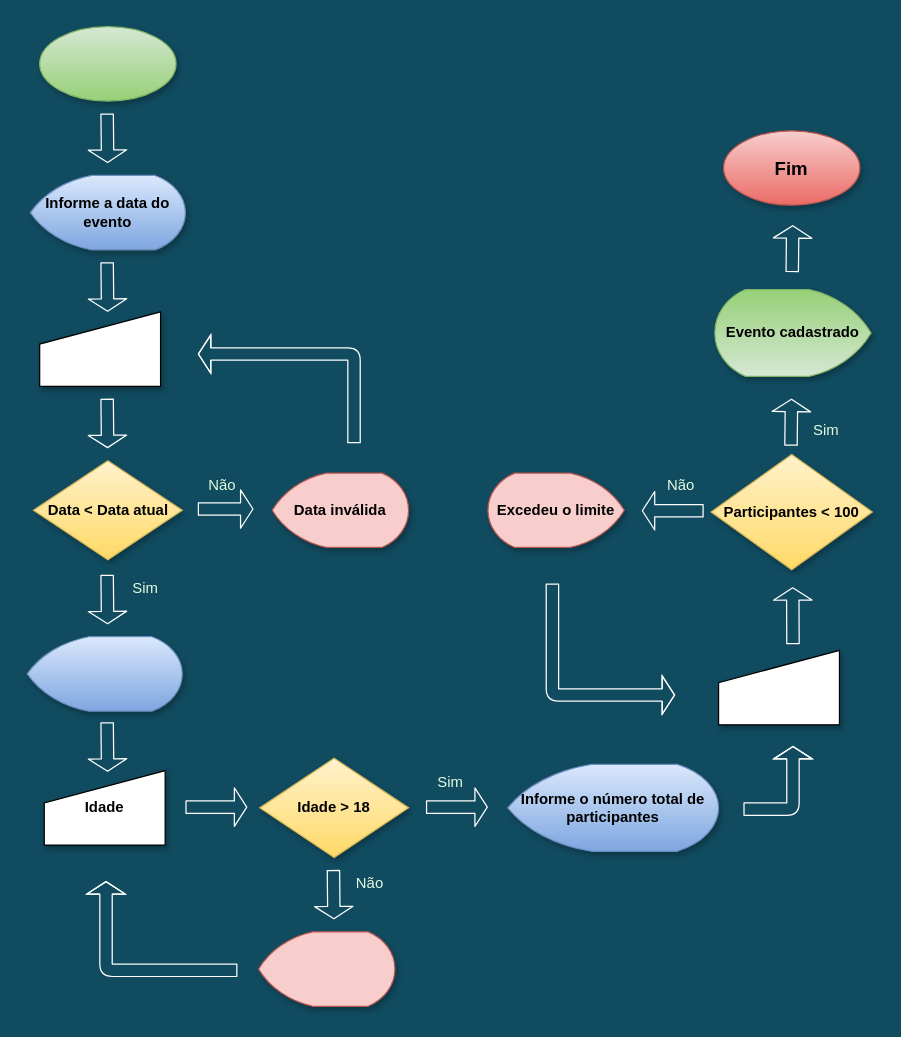
Some shapes in this 901 by 1037 pixel diagram are drawn without their labels. Here are the shapes that lost their labels. From the top down, the centre of each, then its label:
(x=108, y=65): Início
(x=100, y=350): Data
(x=105, y=675): Informe sua idade
(x=779, y=688): Participantes
(x=327, y=970): Idade inválida
